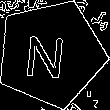N_N: (28, 27, 73, 80)
